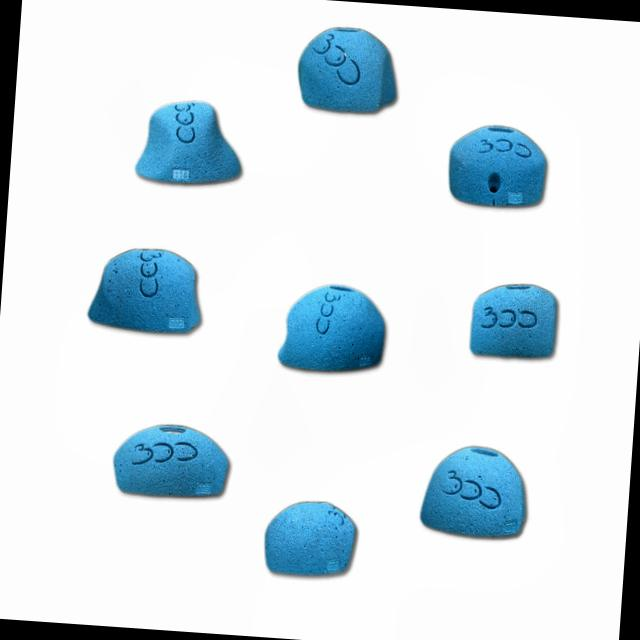Hold: (416, 434, 534, 546), (274, 280, 396, 380), (90, 242, 206, 342), (440, 115, 552, 215), (104, 417, 231, 505), (129, 98, 246, 188), (296, 24, 403, 119), (256, 495, 366, 580), (464, 274, 562, 367)
